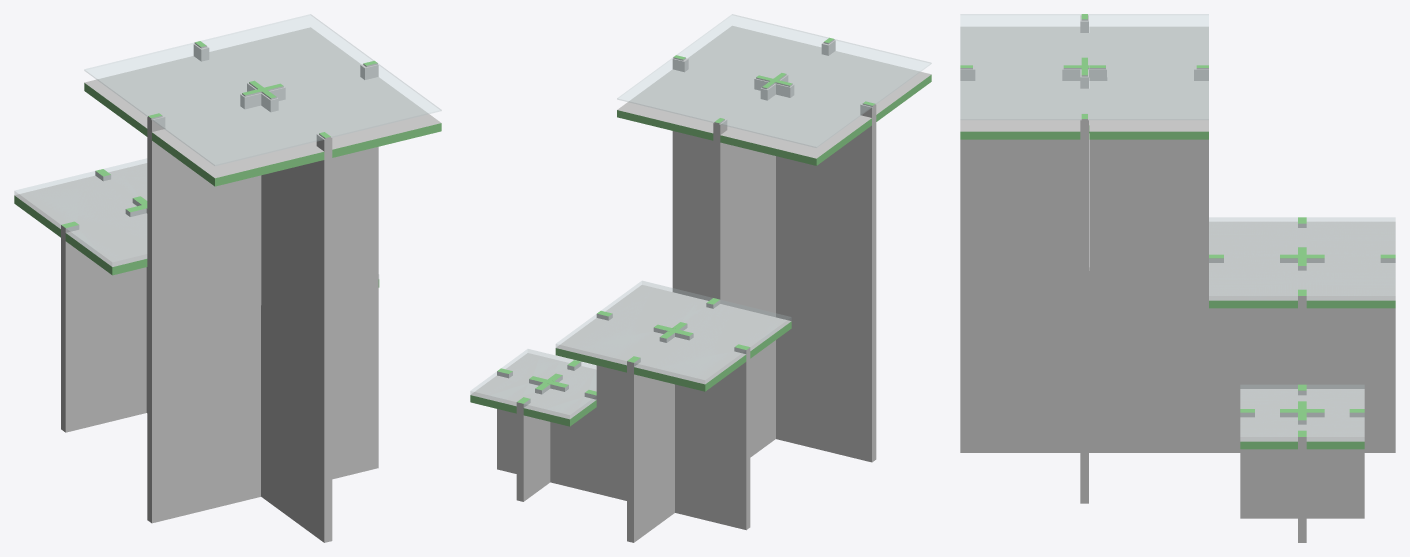
The model's file is 01-altar.glb.
The picture shows the model from 3 angles, left to right: view 1: azimuth 30°, elevation 25°; view 2: azimuth 150°, elevation 25°; view 3: azimuth 270°, elevation 25°; orthographic projection. The views are drawn at different scales.
Visible parts, largest first — view 1: 03 支撑 B｜下开槽、一体穿榫, 01 台面｜中央十字穿槽, 高展台玻璃, 02 支撑 A｜上开槽、一体穿榫, 矮展台｜03 支撑 B｜下开槽、一体穿榫, 矮展台｜01 台面｜中央十字穿槽, 中展台玻璃, 矮展台｜02 支撑 A｜上开槽、一体穿榫; view 2: 03 支撑 B｜下开槽、一体穿榫 (×2), 01 台面｜中央十字穿槽 (×2), 高展台玻璃, 02 支撑 A｜上开槽、一体穿榫 (×2), 矮展台｜03 支撑 B｜下开槽、一体穿榫, 矮展台｜01 台面｜中央十字穿槽, 中展台玻璃, 矮展台｜02 支撑 A｜上开槽、一体穿榫, 低展台玻璃; view 3: 02 支撑 A｜上开槽、一体穿榫 (×2), 01 台面｜中央十字穿槽 (×2), 高展台玻璃, 矮展台｜02 支撑 A｜上开槽、一体穿榫, 矮展台｜01 台面｜中央十字穿槽, 中展台玻璃, 低展台玻璃, 03 支撑 B｜下开槽、一体穿榫 (×2), 矮展台｜03 支撑 B｜下开槽、一体穿榫.
Boxes of the visible parts, x1=… form: 03 支撑 B｜下开槽、一体穿榫: x1=147, y1=60, x2=378, y2=523; 01 台面｜中央十字穿槽: x1=84, y1=27, x2=441, y2=186; 高展台玻璃: x1=84, y1=14, x2=441, y2=165; 02 支撑 A｜上开槽、一体穿榫: x1=193, y1=41, x2=332, y2=542; 矮展台｜03 支撑 B｜下开槽、一体穿榫: x1=61, y1=204, x2=147, y2=432; 矮展台｜01 台面｜中央十字穿槽: x1=14, y1=163, x2=147, y2=275; 中展台玻璃: x1=14, y1=158, x2=146, y2=266; 矮展台｜02 支撑 A｜上开槽、一体穿榫: x1=95, y1=169, x2=147, y2=412; 03 支撑 B｜下开槽、一体穿榫 (×2): x1=497, y1=55, x2=876, y2=493; 01 台面｜中央十字穿槽 (×2): x1=470, y1=26, x2=931, y2=426; 高展台玻璃: x1=617, y1=14, x2=931, y2=147; 02 支撑 A｜上开槽、一体穿榫 (×2): x1=516, y1=37, x2=835, y2=501; 矮展台｜03 支撑 B｜下开槽、一体穿榫: x1=596, y1=311, x2=750, y2=530; 矮展台｜01 台面｜中央十字穿槽: x1=555, y1=285, x2=791, y2=391; 中展台玻璃: x1=556, y1=281, x2=791, y2=383; 矮展台｜02 支撑 A｜上开槽、一体穿榫: x1=627, y1=298, x2=720, y2=542; 低展台玻璃: x1=470, y1=349, x2=596, y2=418; 02 支撑 A｜上开槽、一体穿榫 (×2): x1=960, y1=65, x2=1364, y2=518; 01 台面｜中央十字穿槽 (×2): x1=960, y1=26, x2=1364, y2=449; 高展台玻璃: x1=960, y1=14, x2=1208, y2=119; 矮展台｜02 支撑 A｜上开槽、一体穿榫: x1=1209, y1=254, x2=1395, y2=452; 矮展台｜01 台面｜中央十字穿槽: x1=1209, y1=221, x2=1395, y2=308; 中展台玻璃: x1=1209, y1=217, x2=1395, y2=300; 低展台玻璃: x1=1240, y1=385, x2=1364, y2=441; 03 支撑 B｜下开槽、一体穿榫 (×2): x1=1080, y1=14, x2=1306, y2=542; 矮展台｜03 支撑 B｜下开槽、一体穿榫: x1=1298, y1=217, x2=1306, y2=384.
Size of the model in its own units: 1.38 by 1.71 by 1.75.
